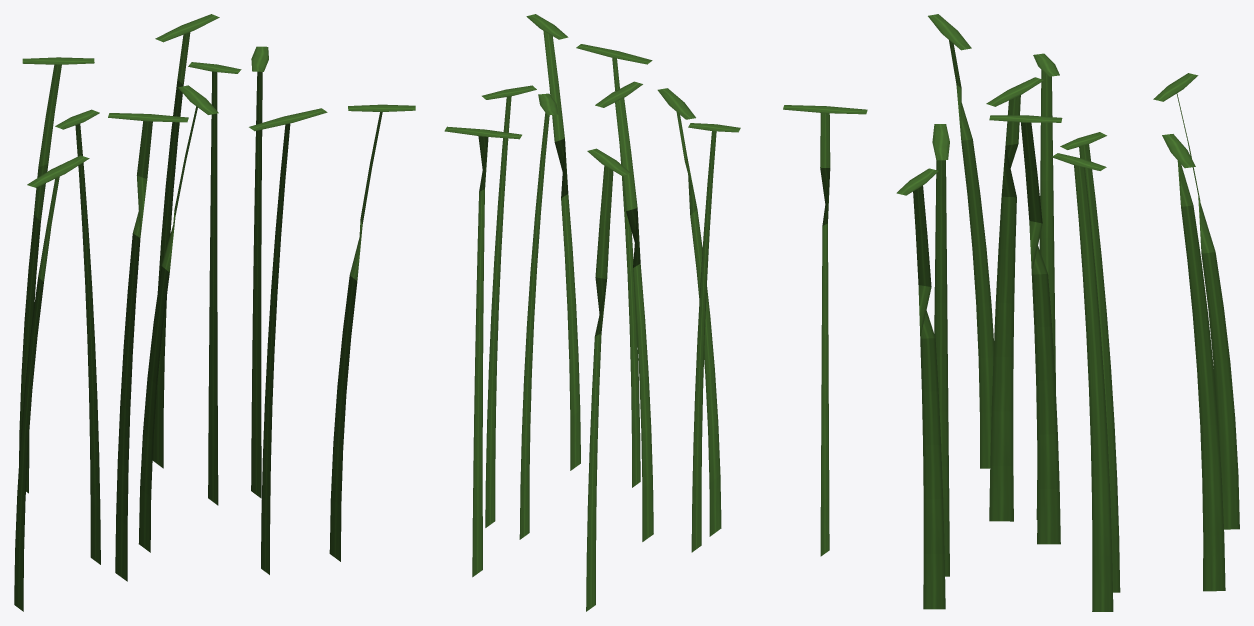
Rendered from pondweed_v1.glb.
3 renders of one model, left to right at view 1: azimuth 30°, elevation 25°; view 2: azimuth 150°, elevation 25°; view 3: azimuth 270°, elevation 25°, orthographic. The views are drawn at different scales.
Visible parts, largest first — view 1: pondweed_v1; view 2: pondweed_v1; view 3: pondweed_v1.
Boxes of the visible parts, x1=… form: pondweed_v1: x1=14, y1=14, x2=415, y2=611; pondweed_v1: x1=444, y1=14, x2=867, y2=611; pondweed_v1: x1=896, y1=14, x2=1239, y2=611.
Size of the model in its own units: 0.4379 by 0.5011 by 0.3502.
1 material, 1 textured.
